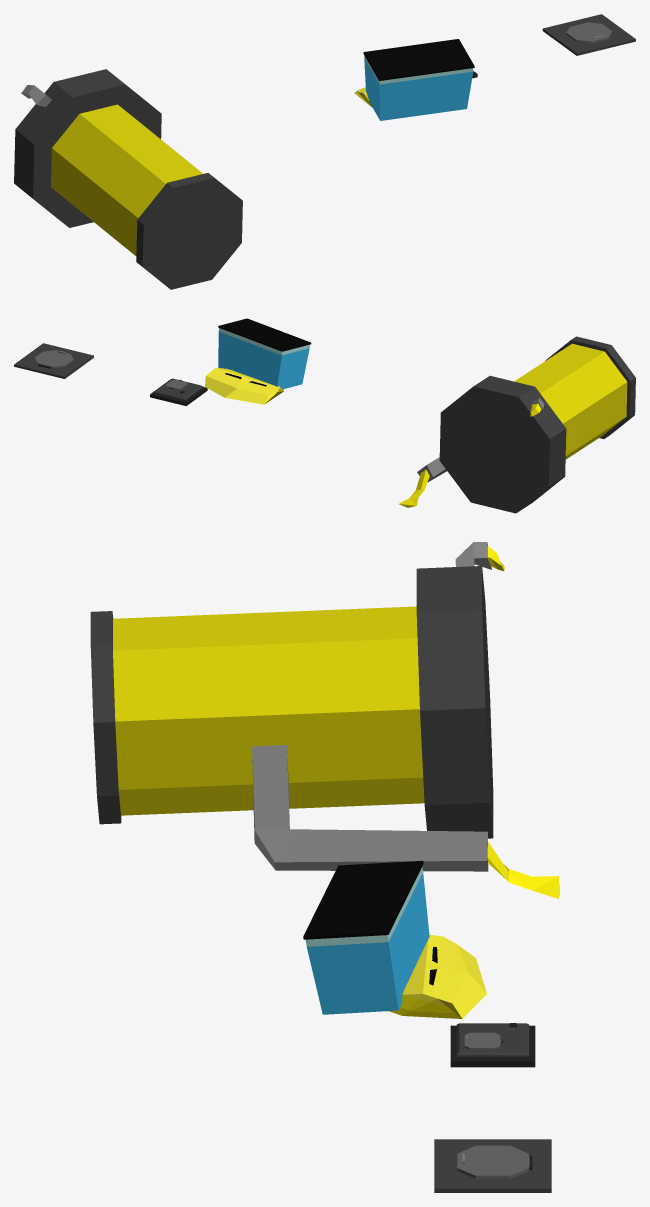
3 renders of one model, top to bottom at view 1: azimuth 30°, elevation 25°; view 2: azimuth 150°, elevation 25°; view 3: azimuth 270°, elevation 25°, orthographic. The views are drawn at different scales.
Visible parts, largest first — view 1: Clone.001, SmashedButter, Hatch; view 2: Clone.001, SmashedButter, Hatch, Vent; view 3: Clone.001, SmashedButter, Hatch, Vent.
Part boxes in pixels (bbox=[...]): Clone.001: bbox=[14, 69, 242, 289]; SmashedButter: bbox=[354, 39, 474, 120]; Hatch: bbox=[542, 14, 635, 55]; Clone.001: bbox=[399, 336, 635, 513]; SmashedButter: bbox=[205, 318, 311, 404]; Hatch: bbox=[14, 343, 93, 378]; Vent: bbox=[150, 378, 207, 406]; Clone.001: bbox=[90, 542, 559, 898]; SmashedButter: bbox=[303, 860, 486, 1018]; Hatch: bbox=[434, 1139, 551, 1192]; Vent: bbox=[450, 1023, 535, 1067].
Size of the model in its own units: 708 by 159 by 277.
